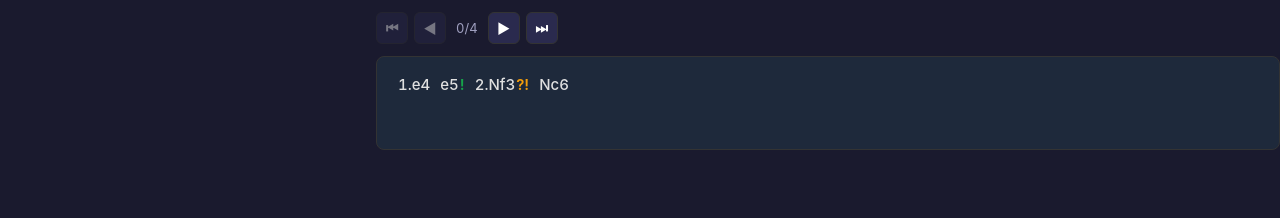
Test: <InlinePgnViewer> › крупный блок текущего комментария под доской — есть только когда у текущего хода есть комментарий
Note: После next → текущий ход e4 c комментарием.
Step 1. Click the button with test id "inline-pgn-viewer-next" → (504, 28), box [488,12,520,44]
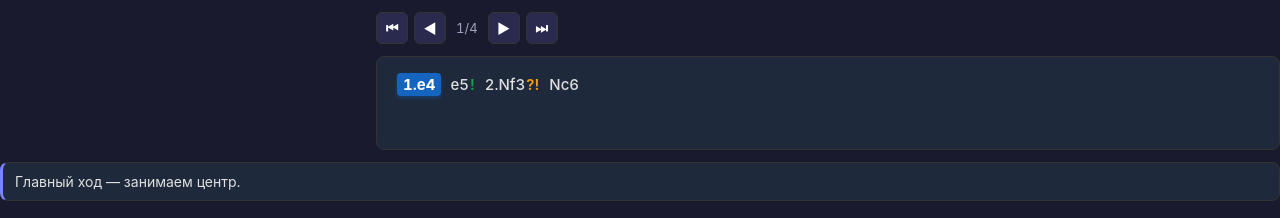
expect the text with test id "inline-pgn-viewer-current-comment" shows "Главный ход": met, box [15,173,241,190]
Note: Ещё next → e5 ($1, без комментария) — блок снова исчезает.
Step 2. Click the button with test id "inline-pgn-viewer-next" → (504, 28), box [488,12,520,44]
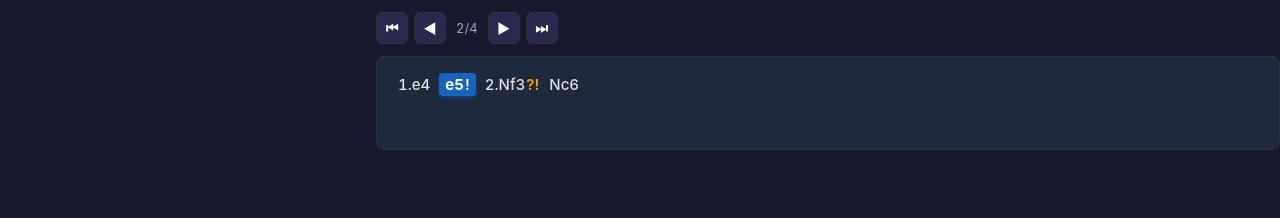
expect the text with test id "inline-pgn-viewer-current-comment" is gone: met
